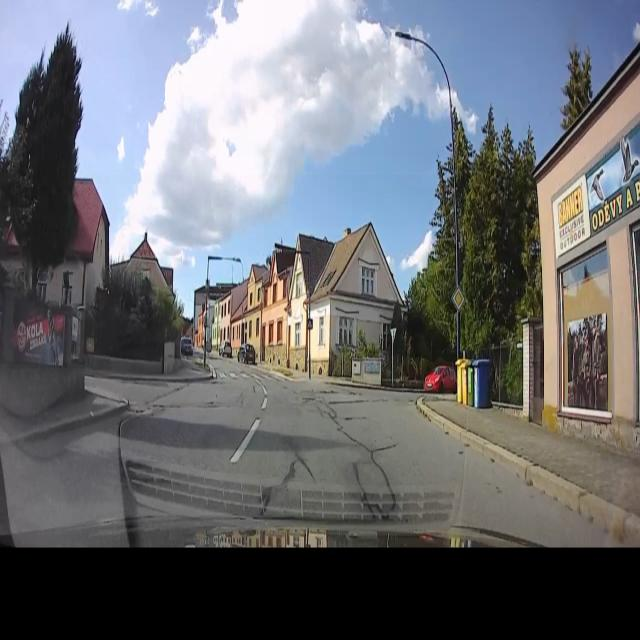Pedestrian crosswalk: (214, 364, 286, 386), (306, 316, 314, 331)
